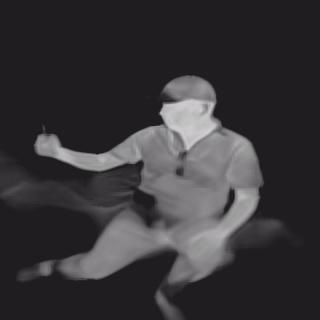Gun: (130, 188, 157, 230)
